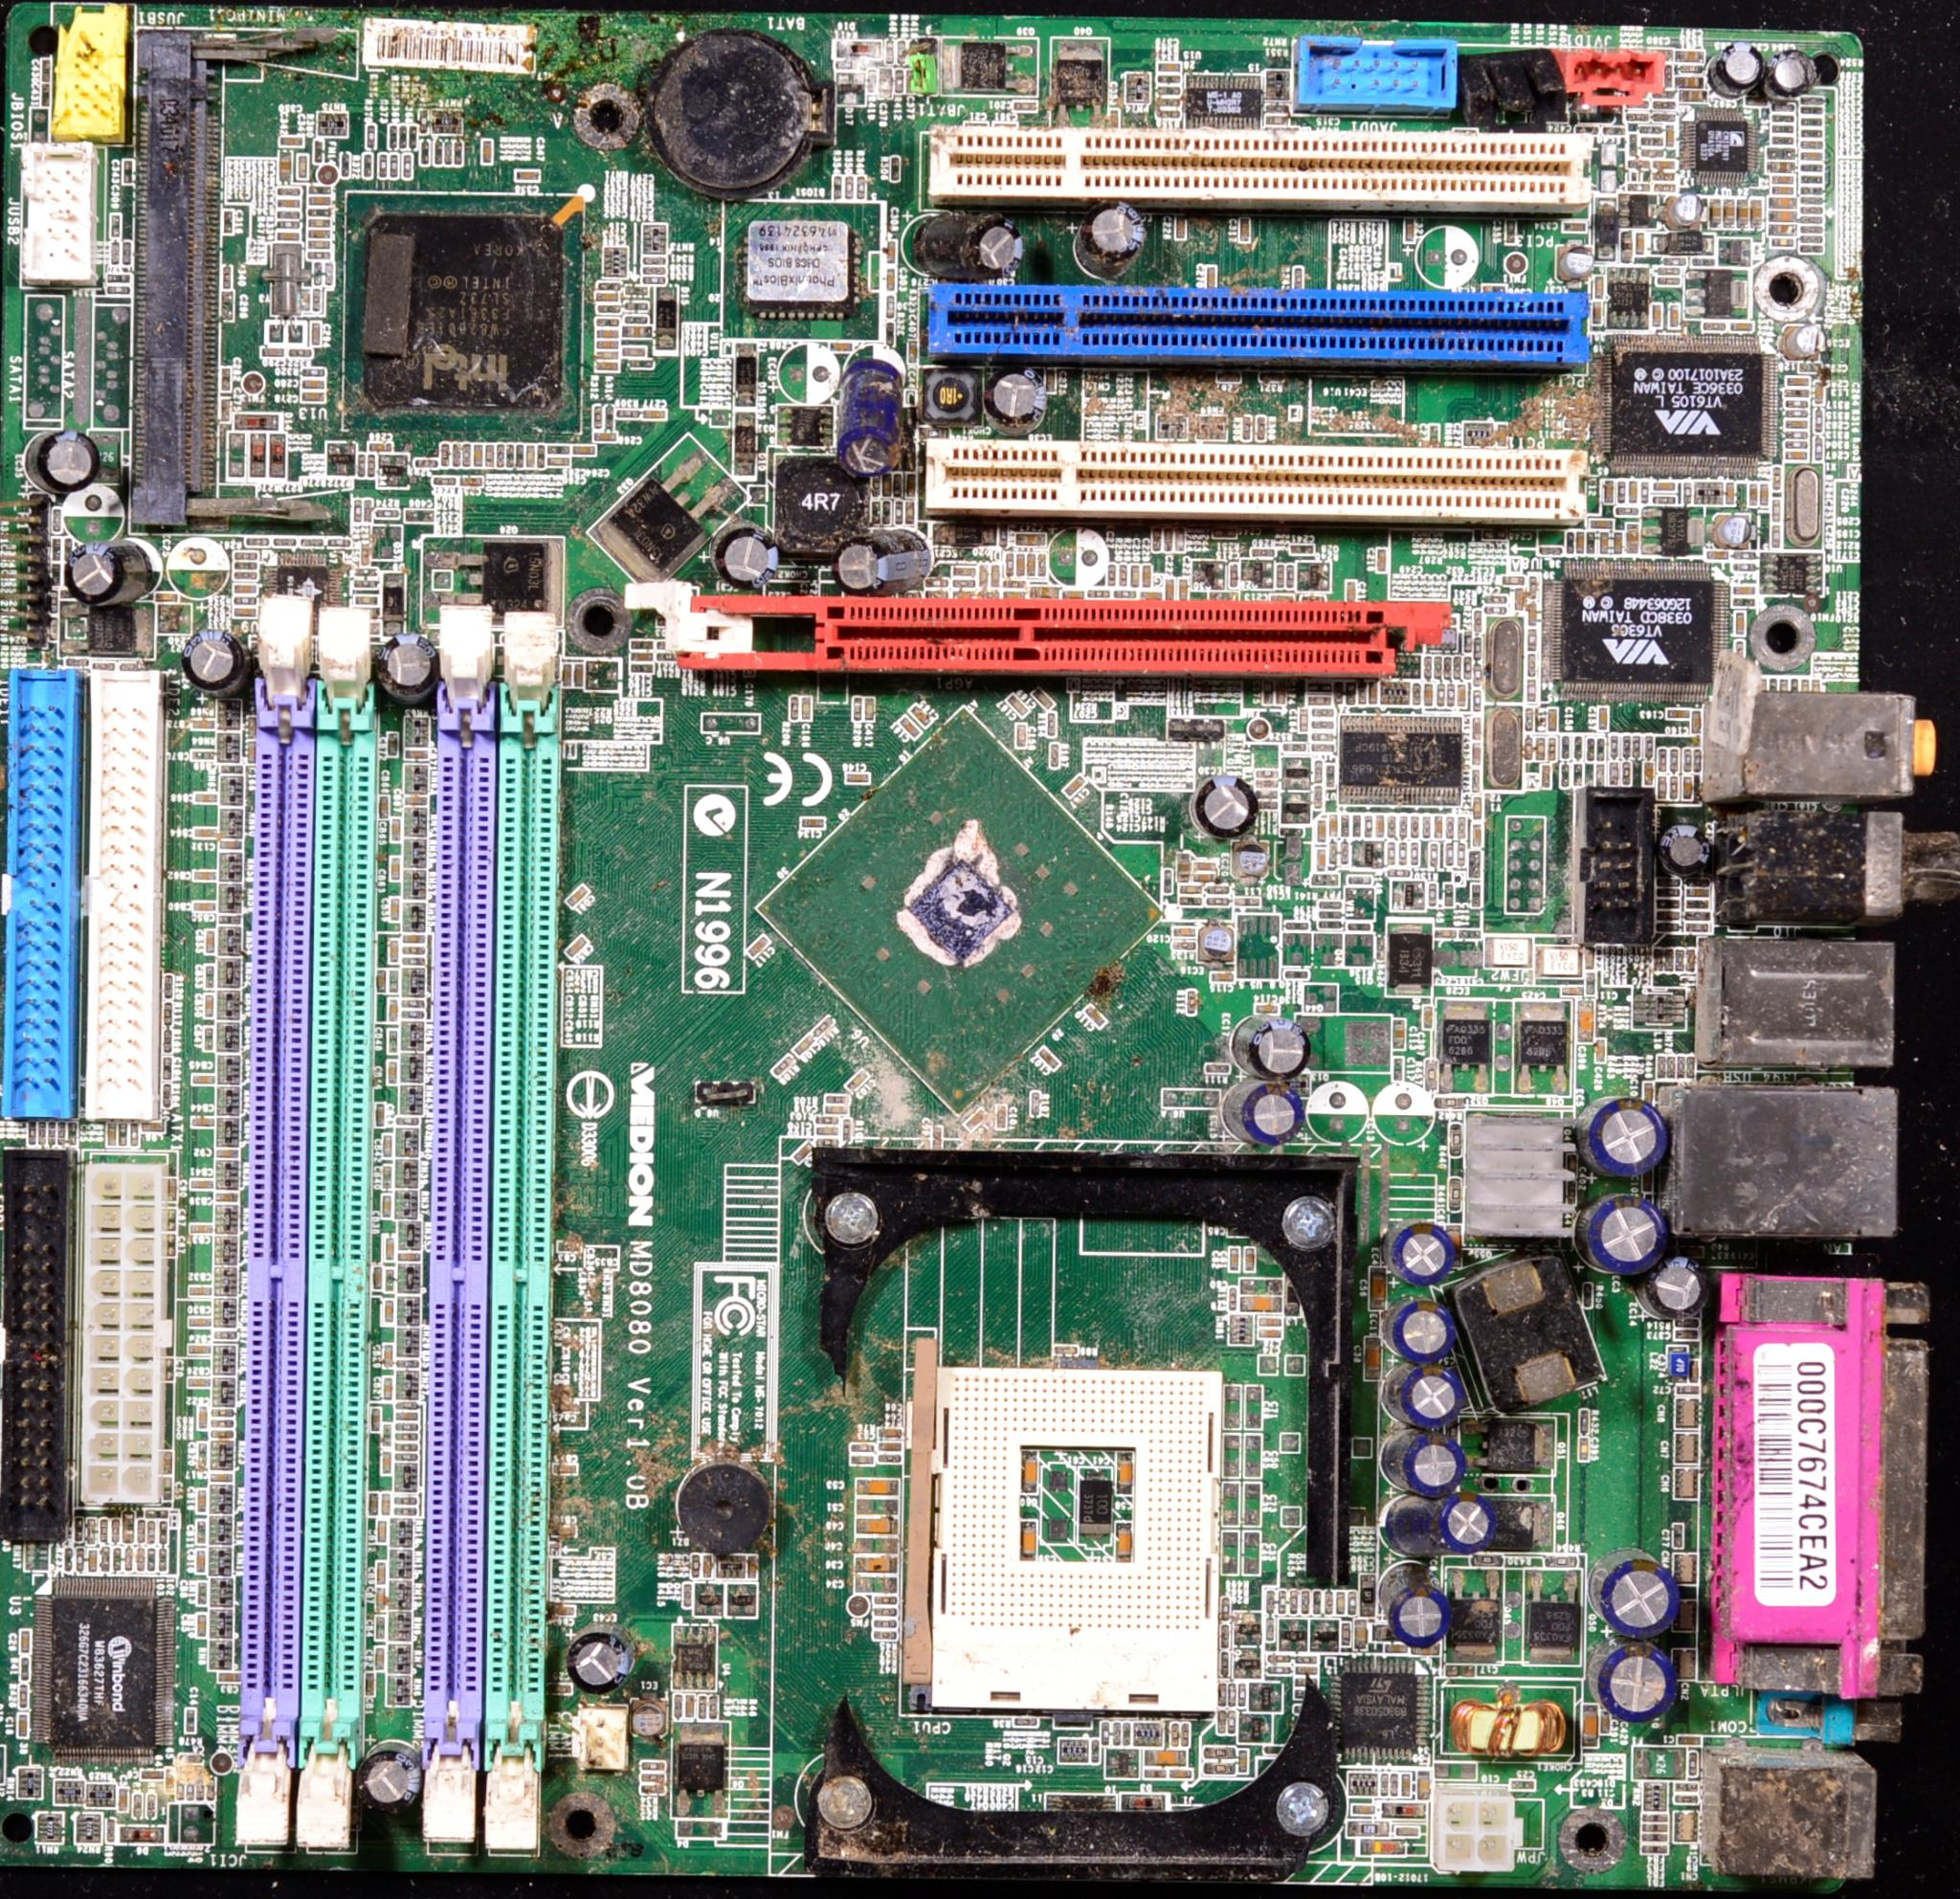Capacitor Jumper: (353, 1734, 435, 1825), (1591, 1636, 1675, 1720), (1589, 1187, 1667, 1277), (1075, 182, 1151, 270), (1602, 1556, 1682, 1637), (1589, 1099, 1671, 1175), (1380, 1213, 1457, 1293), (180, 620, 249, 702), (567, 1625, 641, 1697), (980, 365, 1060, 429), (1248, 1072, 1311, 1151), (1381, 1575, 1456, 1642), (29, 430, 103, 494), (965, 209, 1032, 278), (63, 542, 132, 609), (1397, 1429, 1470, 1490), (1438, 1493, 1503, 1561), (375, 626, 444, 689), (1252, 1016, 1315, 1082), (1390, 1302, 1453, 1366), (1399, 1366, 1460, 1428), (1642, 1255, 1707, 1313), (721, 522, 778, 587), (838, 538, 890, 610), (842, 422, 903, 479), (1197, 774, 1257, 831), (1767, 46, 1826, 99), (1709, 39, 1765, 89), (1663, 826, 1711, 874), (1196, 924, 1233, 962), (1231, 838, 1267, 874), (1236, 1288, 1284, 1310), (1114, 1449, 1135, 1493), (1011, 531, 1053, 552), (852, 1514, 898, 1532), (1021, 1451, 1042, 1490), (859, 1477, 900, 1496), (511, 167, 549, 185), (857, 1553, 898, 1570), (1116, 1521, 1133, 1559), (300, 374, 332, 392), (182, 1339, 212, 1357), (182, 1702, 197, 1737), (564, 932, 581, 963), (1020, 1522, 1034, 1561), (195, 1486, 211, 1520), (295, 287, 312, 317), (469, 442, 486, 472), (184, 1310, 214, 1327), (568, 883, 585, 911), (366, 1404, 383, 1432), (278, 148, 292, 183), (1736, 197, 1751, 227), (107, 1515, 122, 1544), (1769, 194, 1797, 210), (309, 213, 340, 228), (377, 793, 392, 821), (190, 866, 221, 881), (277, 196, 303, 212), (1786, 374, 1813, 391), (1677, 75, 1702, 92), (593, 291, 622, 305), (188, 898, 218, 911), (185, 1374, 212, 1389), (195, 1438, 209, 1468), (19, 1623, 33, 1654), (382, 1297, 397, 1323), (304, 195, 339, 207), (1172, 216, 1190, 239), (189, 1069, 216, 1084), (299, 390, 325, 404), (1139, 562, 1152, 591), (385, 939, 400, 964), (278, 132, 302, 147), (595, 327, 620, 343), (798, 697, 812, 725), (17, 1709, 29, 1740), (188, 1219, 214, 1233), (594, 428, 619, 442), (303, 240, 334, 252), (389, 851, 400, 882), (1673, 51, 1705, 61), (480, 136, 492, 166), (1770, 173, 1794, 187), (374, 1097, 386, 1126), (381, 1443, 392, 1472), (1767, 161, 1795, 172), (649, 409, 672, 423), (951, 561, 974, 575), (1235, 219, 1250, 240), (145, 1785, 155, 1819), (1258, 1315, 1284, 1327), (383, 1340, 394, 1367), (1800, 149, 1827, 161), (131, 1792, 143, 1819), (277, 230, 300, 243), (461, 475, 484, 488), (1162, 525, 1173, 552), (978, 560, 990, 587), (381, 1131, 392, 1157), (98, 1517, 109, 1543), (1174, 525, 1186, 551), (384, 1233, 393, 1263), (381, 1164, 392, 1189), (1374, 547, 1386, 572), (193, 789, 218, 800), (381, 1486, 390, 1515), (372, 1643, 382, 1672), (1204, 262, 1215, 286), (1497, 421, 1506, 449), (702, 1553, 714, 1576), (1681, 89, 1705, 100), (388, 1059, 397, 1085), (140, 1122, 167, 1131), (90, 1546, 100, 1573), (375, 1589, 385, 1616), (1155, 65, 1182, 75), (386, 997, 397, 1019), (196, 1406, 208, 1428), (383, 1373, 390, 1405), (568, 444, 597, 453), (214, 1191, 237, 1201), (214, 1418, 237, 1428), (105, 1120, 115, 1145), (1663, 124, 1673, 149), (1771, 212, 1795, 222), (625, 326, 650, 336), (526, 446, 536, 471), (1154, 524, 1162, 554), (1346, 580, 1359, 597), (193, 717, 214, 727), (187, 1285, 215, 1292), (119, 1785, 126, 1814), (306, 230, 335, 237), (1732, 585, 1755, 594), (1625, 112, 1650, 121), (850, 1441, 875, 1450), (197, 1544, 205, 1572), (195, 1611, 203, 1639), (167, 1764, 175, 1792), (402, 934, 429, 942), (746, 1555, 756, 1576), (1027, 553, 1036, 574), (193, 827, 214, 837), (879, 1427, 902, 1436), (1771, 225, 1793, 234), (207, 994, 214, 1017), (130, 1121, 138, 1144), (124, 1544, 132, 1566), (216, 1149, 241, 1155), (879, 1441, 903, 1448), (211, 1429, 232, 1437), (379, 1557, 385, 1585), (211, 1408, 234, 1414), (377, 1518, 383, 1539), (1007, 555, 1013, 574), (393, 894, 397, 922)
Connector: (1732, 1265, 1950, 1697), (1671, 1075, 1904, 1238), (85, 679, 160, 1121), (9, 667, 74, 1109), (0, 1150, 67, 1549), (1717, 815, 1954, 925), (84, 1156, 155, 1511), (1702, 948, 1903, 1070), (1700, 1759, 1897, 1880), (1726, 698, 1924, 792), (21, 144, 107, 295), (57, 4, 126, 147)
IC: (358, 212, 578, 400), (42, 1577, 168, 1754), (1612, 353, 1765, 460), (1561, 579, 1708, 682), (1341, 718, 1463, 803), (479, 540, 557, 607), (674, 1731, 737, 1792), (1690, 116, 1748, 172), (1185, 83, 1263, 119), (676, 1640, 710, 1679), (1081, 1475, 1110, 1521), (1610, 279, 1652, 309), (1564, 245, 1596, 279), (1671, 228, 1707, 254), (329, 440, 356, 471), (1599, 212, 1620, 246), (1629, 193, 1648, 226)
Resistor Jumper: (654, 286, 677, 347), (1166, 717, 1223, 740), (585, 658, 625, 688), (1294, 558, 1328, 592), (318, 110, 350, 143), (644, 219, 671, 257), (1196, 555, 1227, 588), (212, 1198, 241, 1233), (383, 1672, 413, 1704), (429, 104, 459, 135), (1466, 419, 1499, 448), (391, 1124, 420, 1155), (695, 1585, 724, 1617), (1244, 558, 1269, 594), (380, 453, 407, 486), (75, 1810, 103, 1841), (402, 717, 431, 748), (17, 1762, 44, 1795), (395, 1260, 422, 1291), (208, 1574, 234, 1605), (603, 243, 630, 275), (211, 1437, 237, 1467), (389, 1575, 412, 1611), (213, 1293, 238, 1326), (398, 1220, 425, 1250), (396, 1461, 421, 1492), (37, 1809, 62, 1841), (212, 1235, 239, 1263), (86, 1779, 113, 1808), (218, 850, 241, 883), (398, 1051, 423, 1082), (1125, 74, 1148, 106), (52, 1778, 84, 1801), (392, 1187, 419, 1215), (387, 1610, 412, 1640), (211, 1641, 235, 1670), (213, 1265, 236, 1297), (211, 1479, 234, 1510), (214, 1120, 241, 1147), (1380, 677, 1409, 702), (398, 1368, 419, 1401), (218, 955, 241, 986), (214, 1021, 237, 1052), (390, 1642, 412, 1672), (209, 1513, 234, 1541), (406, 804, 427, 837), (402, 900, 425, 929), (215, 1056, 238, 1085), (219, 807, 242, 837), (211, 1608, 235, 1635), (218, 987, 239, 1018), (397, 1294, 420, 1323), (402, 965, 423, 995), (398, 1083, 421, 1110), (212, 1342, 235, 1370), (209, 1544, 232, 1572), (407, 869, 428, 899), (218, 699, 239, 728), (216, 926, 239, 952), (402, 1021, 425, 1048), (390, 1547, 410, 1578), (407, 765, 428, 793), (402, 838, 423, 867), (216, 885, 239, 911), (213, 1375, 236, 1401), (729, 1586, 752, 1612), (218, 735, 241, 761), (390, 1513, 410, 1544), (218, 1084, 237, 1114), (217, 1160, 236, 1189), (222, 775, 239, 805), (398, 1330, 417, 1356), (1154, 415, 1175, 437), (399, 1159, 414, 1185), (71, 1512, 84, 1541), (1767, 100, 1797, 112), (1769, 145, 1793, 160), (1656, 896, 1681, 909), (1802, 103, 1829, 116), (362, 152, 373, 181), (1608, 731, 1619, 760), (1656, 919, 1679, 932), (402, 1004, 423, 1018), (1621, 729, 1631, 761), (789, 692, 798, 723), (403, 997, 428, 1009), (850, 1455, 875, 1466), (433, 139, 444, 164), (720, 1558, 743, 1571), (163, 1058, 174, 1082), (338, 149, 347, 177), (1583, 733, 1592, 761), (157, 1517, 168, 1540), (689, 1553, 701, 1576), (19, 1657, 31, 1680), (1300, 697, 1330, 705), (1558, 731, 1570, 754), (1684, 911, 1709, 922), (1686, 923, 1711, 933), (1730, 595, 1755, 606), (1772, 114, 1799, 123), (445, 137, 455, 164), (1558, 763, 1568, 790), (1571, 763, 1583, 785), (1659, 1053, 1668, 1079), (366, 122, 375, 147), (164, 1002, 175, 1023), (400, 156, 412, 177), (388, 127, 397, 152), (65, 1545, 75, 1570), (1435, 685, 1446, 705), (1687, 897, 1710, 906), (1666, 1053, 1676, 1076), (394, 1440, 417, 1449), (878, 1450, 901, 1460), (683, 1579, 691, 1608), (1800, 174, 1823, 184), (1807, 118, 1824, 130), (393, 1422, 418, 1431), (165, 1026, 172, 1054), (1677, 1054, 1686, 1076), (389, 154, 398, 176), (1446, 683, 1456, 705), (1413, 683, 1424, 702), (1654, 100, 1675, 109), (402, 955, 425, 964), (165, 971, 172, 995), (379, 154, 387, 179), (1797, 165, 1822, 172), (19, 1681, 27, 1706), (1732, 563, 1757, 570), (411, 123, 416, 156), (404, 945, 423, 954), (1731, 551, 1758, 558), (1656, 913, 1679, 921), (159, 1545, 167, 1568), (1425, 654, 1433, 677), (1689, 1057, 1699, 1075), (400, 121, 406, 150), (1548, 737, 1556, 759), (1771, 136, 1795, 143), (1642, 124, 1661, 133), (1598, 740, 1606, 759), (1635, 733, 1640, 758), (1157, 78, 1182, 84), (1156, 86, 1177, 93), (396, 1432, 419, 1438), (1773, 125, 1793, 132), (136, 1517, 142, 1539), (147, 1546, 153, 1568), (121, 1123, 126, 1144), (1801, 129, 1822, 135), (1688, 1053, 1690, 1054)
Transistor: (1431, 990, 1496, 1095), (1510, 996, 1575, 1094)
